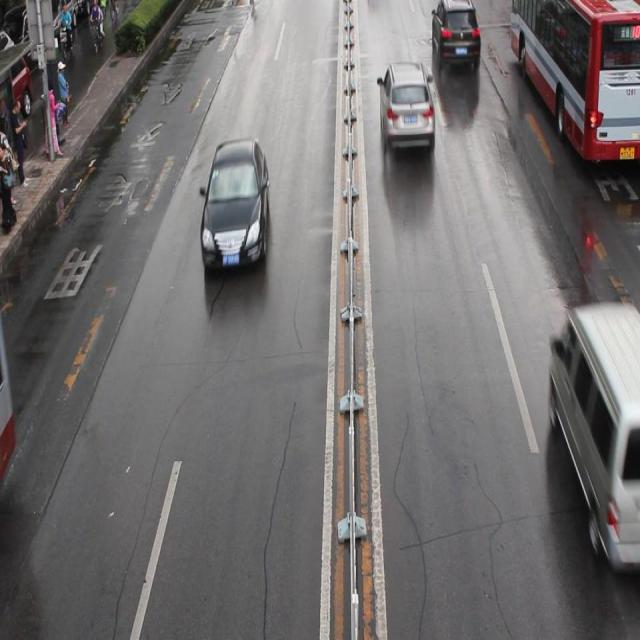car: (202, 142, 268, 268), (378, 64, 435, 152), (430, 1, 479, 68), (1, 50, 35, 131)
truck: (545, 307, 640, 566)
van: (509, 1, 640, 164)
